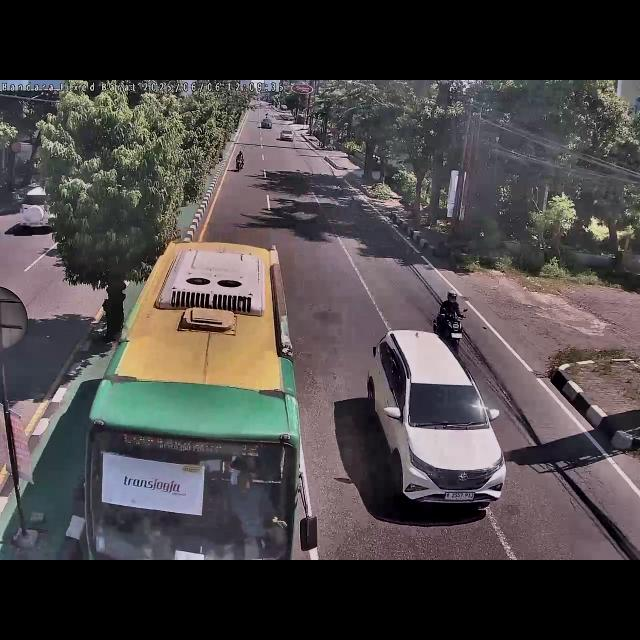Bis: (86, 242, 302, 560)
Mobil: (366, 326, 509, 512)
Motor: (437, 288, 469, 356)
